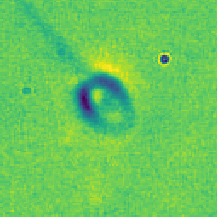normal: (8, 1, 92, 79)
